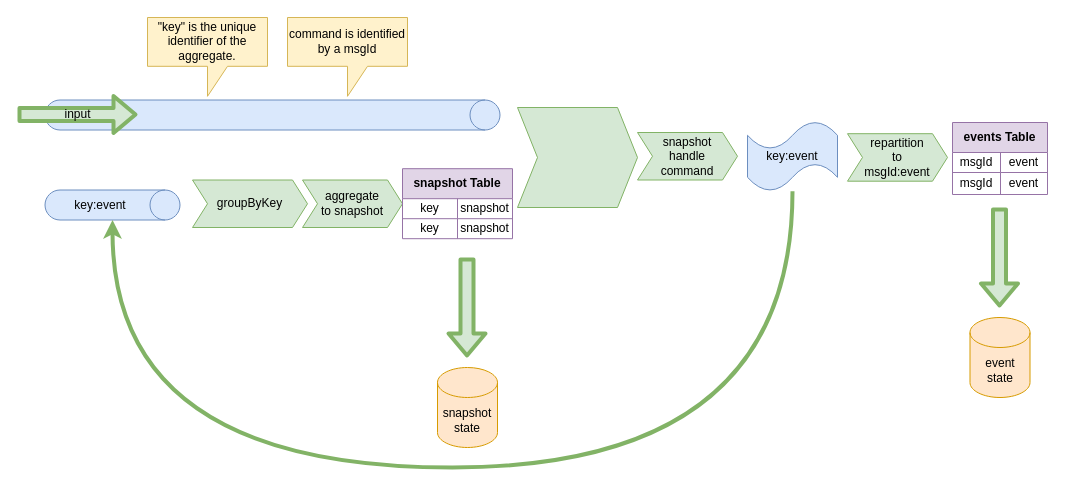
Some shapes in this 1065 by 487 pixel diagram are drawn without their labels. The shapes that lost their labels are listed below. From the top down, each one's centre as x and y in pixels, then its label:
the point at 272,114: key:command
the point at 577,157: commands leftJoin snapshots
